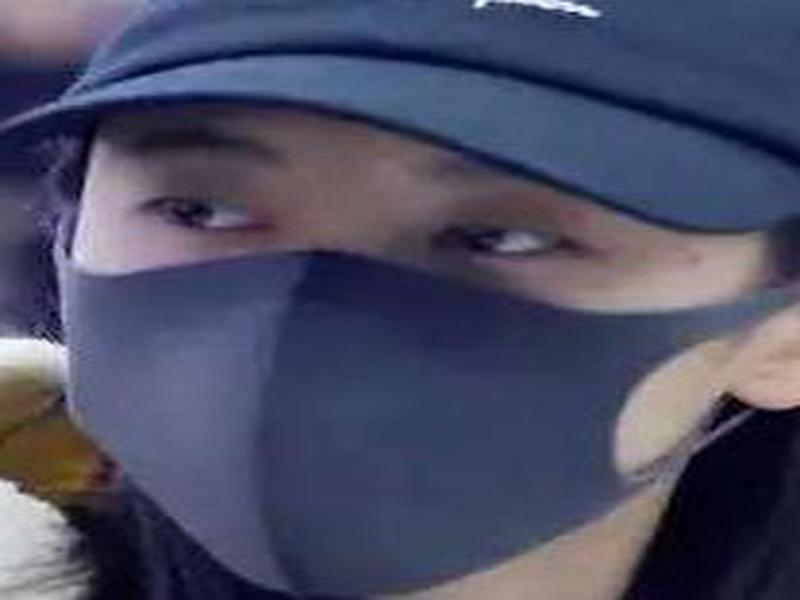with_mask: (55, 101, 800, 596)
